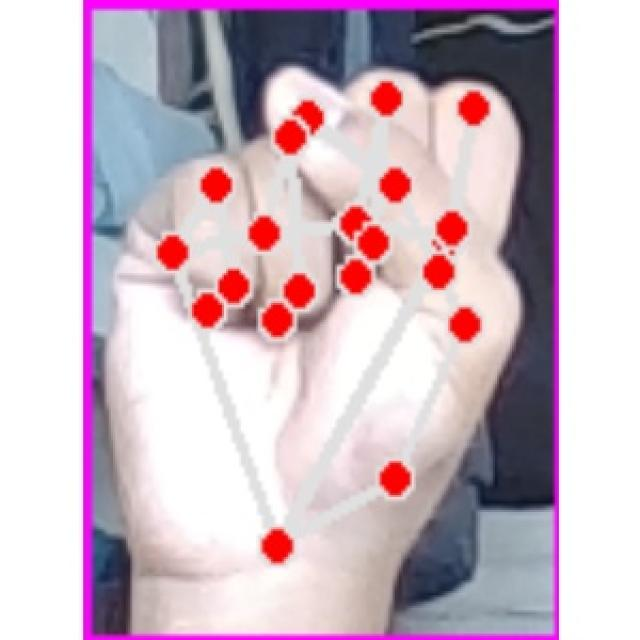S: (102, 42, 540, 591)
